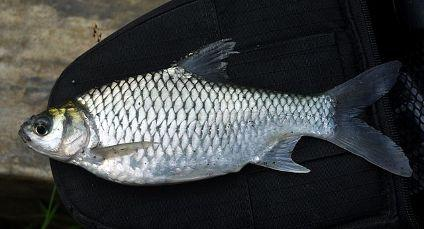Silver Barb: (21, 38, 412, 188)
